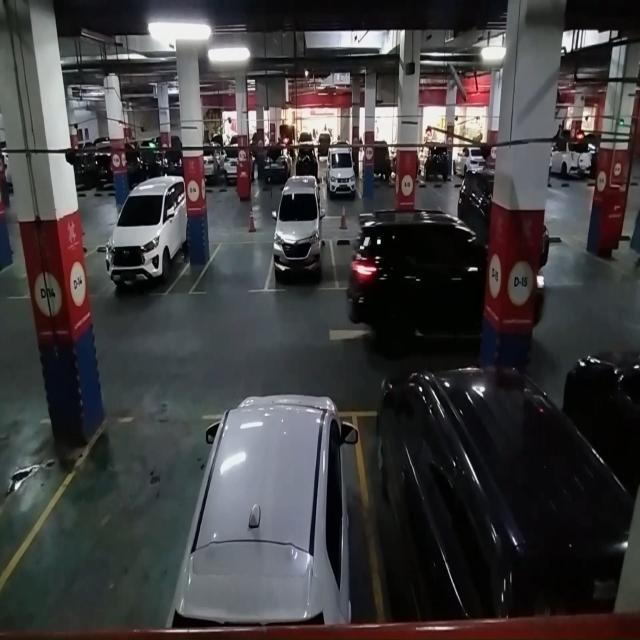empty: (43, 415, 189, 632), (198, 238, 273, 295)
occupied: (365, 390, 577, 624), (195, 408, 365, 628), (105, 189, 186, 297), (270, 198, 334, 292)
